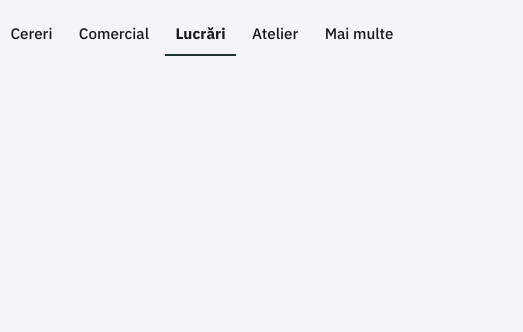
Scenario: GlobalNavigation › keeps focus on Mai multe when Escape closes while the trigger is focused
The width and height of the screenshot is (523, 332).
Later steps or results of the test are not shown.
Click the button "Mai multe": coordinates (359, 34) [314,12,404,56]
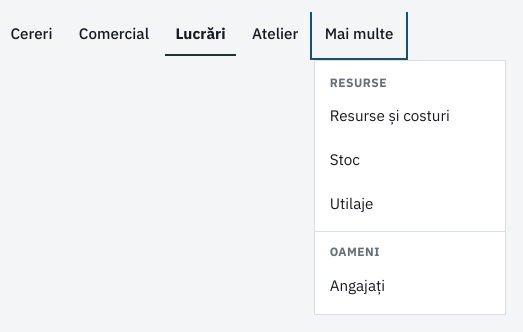
Expected: the element named "Mai multe" is shown, [314,60,506,315]
